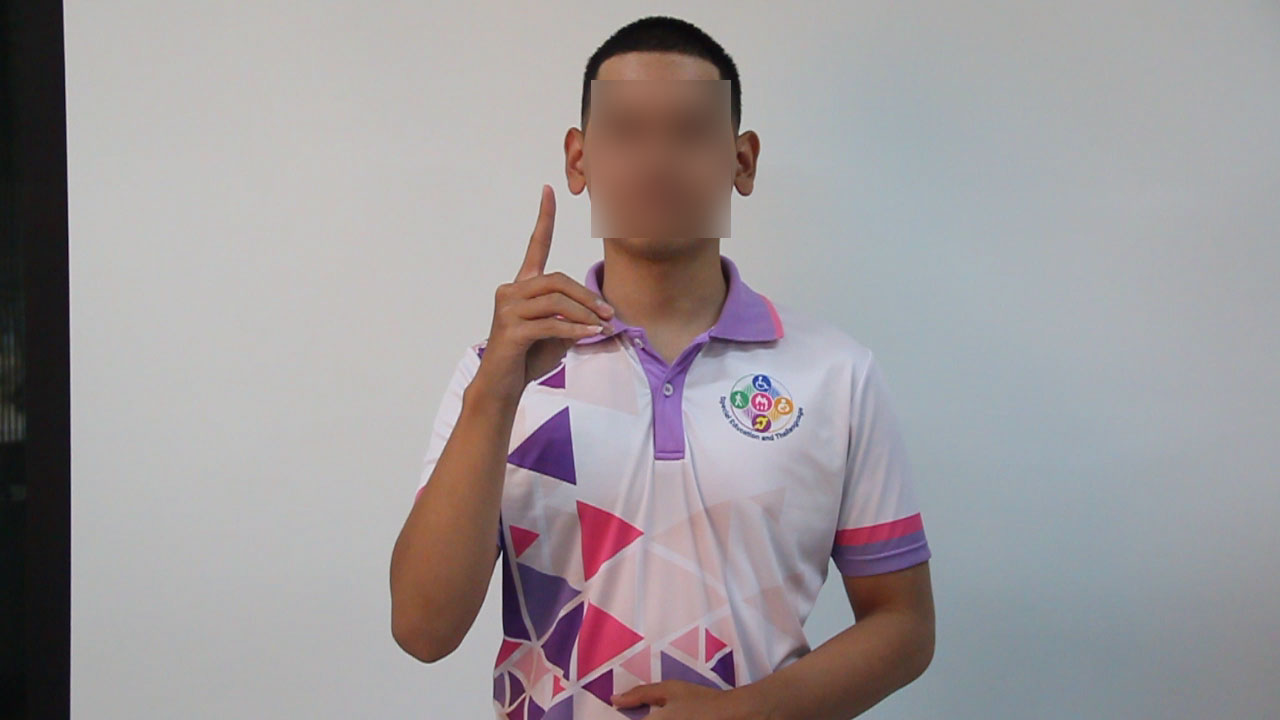dor: (466, 176, 621, 391)
